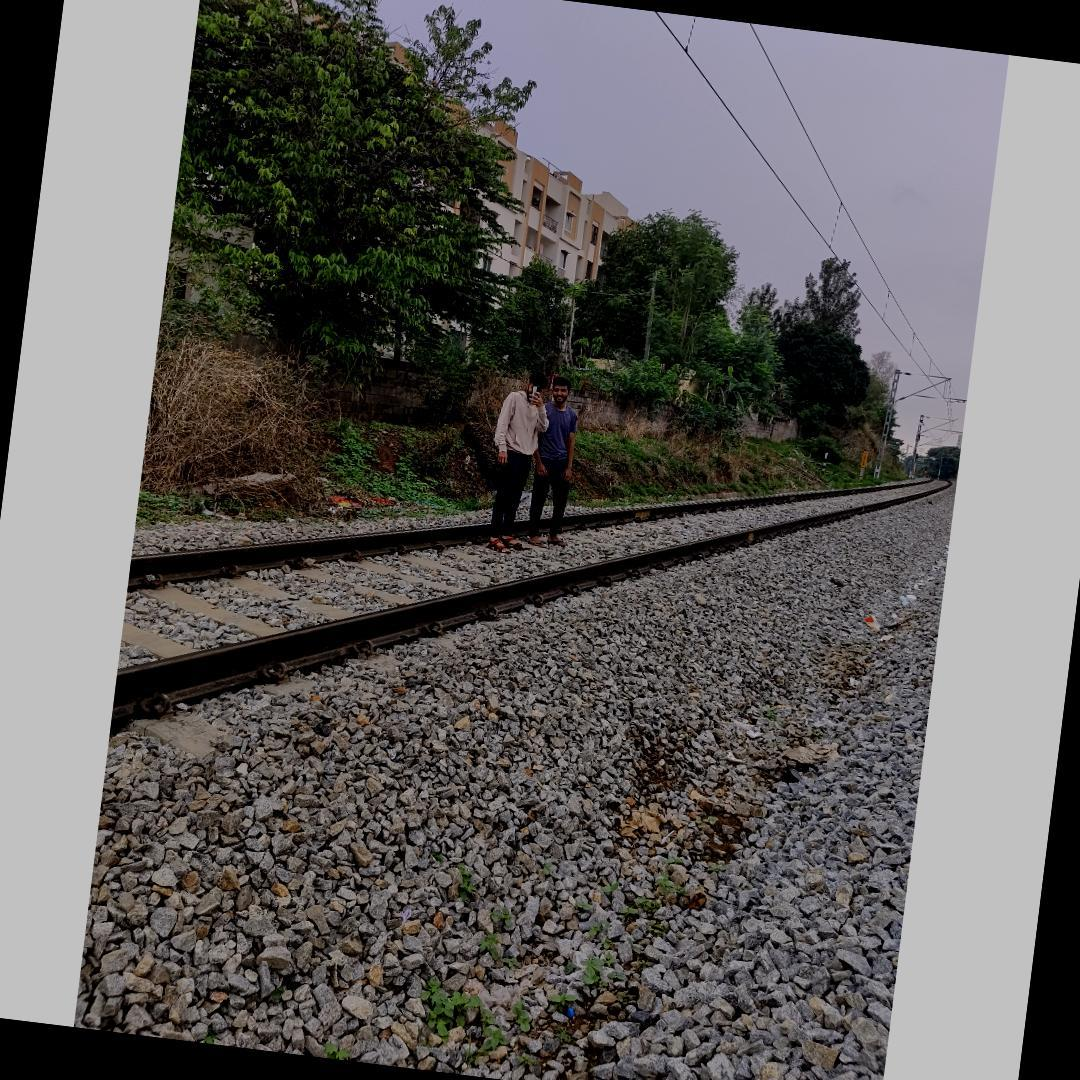standing: (478, 364, 556, 552), (522, 371, 586, 547)
track: (100, 472, 954, 801)
